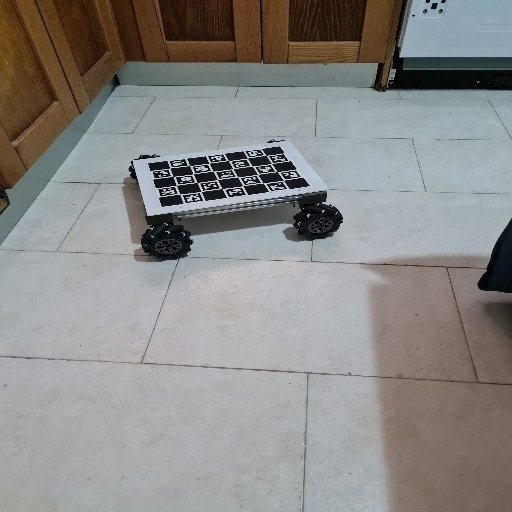Omniwheel: (129, 139, 347, 263)
